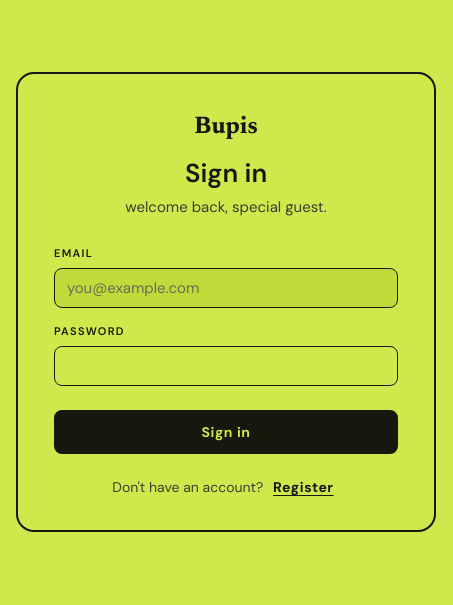
Test: Login › clears a previous error when toggling mode
Step 1. Click the button "Register" → (303, 487), box [267,476,340,498]
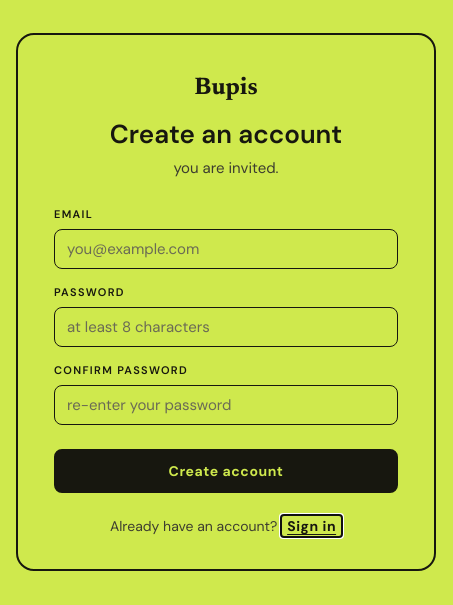
Step 2. Type "a@b.com" into the field labelled "Email" → (226, 249), box [54,229,398,269]
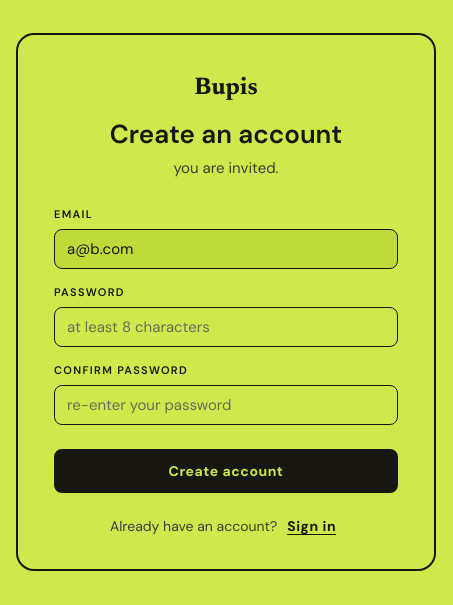
Step 3. Type "password1" into the password field labelled "Password" → (226, 327), box [54,307,398,347]
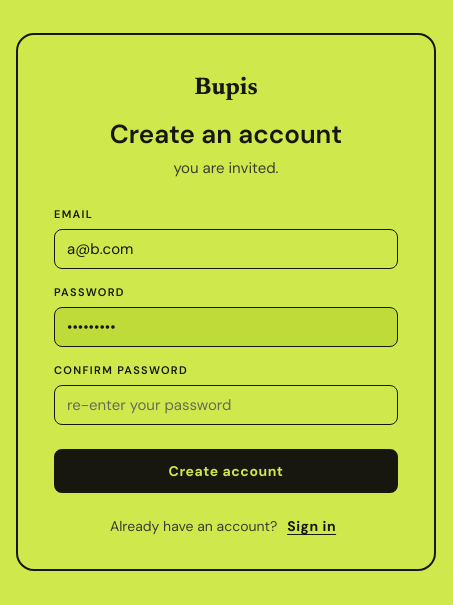
Step 4. Type "password2" into the password field labelled "Confirm password" → (226, 405), box [54,385,398,425]
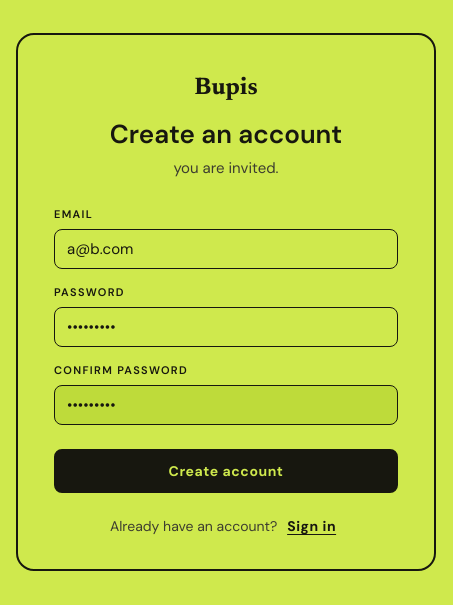
Step 5. Click the button "Create account" → (226, 471), box [54,449,398,493]
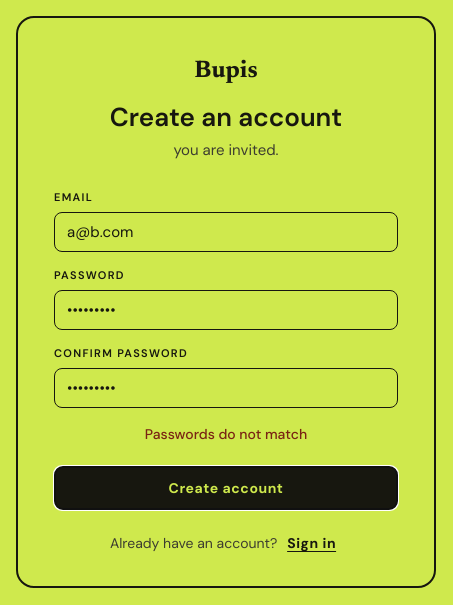
Result: the text "Passwords do not match" is shown at [145,425,307,443]
Step 6. Click the button "Sign in" → (312, 543), box [281,532,342,554]
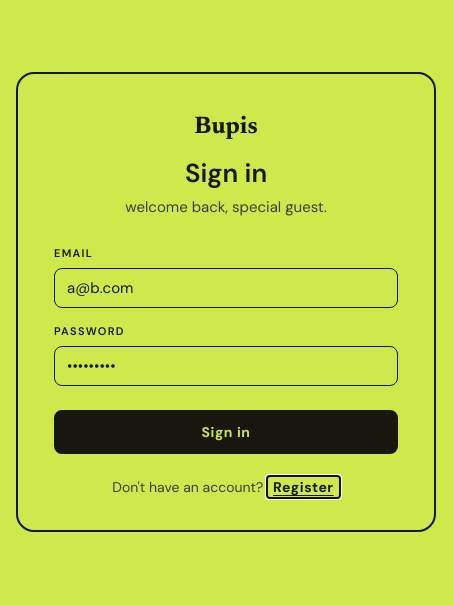
Result: the text "Passwords do not match" is gone
